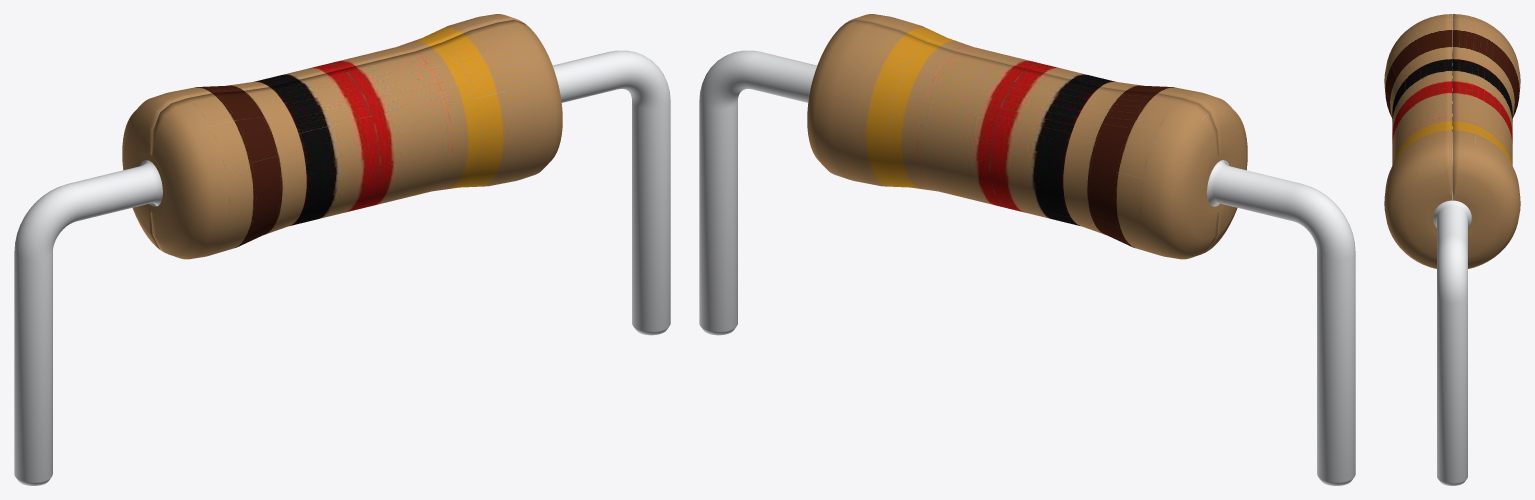
File: 03_Resistencia_Desarme_Despiece_Materiales.glb
3 views of the same model, side by side, from view 1: azimuth 30°, elevation 25°; view 2: azimuth 150°, elevation 25°; view 3: azimuth 270°, elevation 25° (orthographic). The views are drawn at different scales.
Parts seen in each view (by area): view 1: 06_Laca_Epoxi_Frontal_Bandas, 04A_Terminal_Izq_Cobre_Estanado, 04B_Terminal_Der_Cobre_Estanado, 05_Laca_Epoxi_Posterior; view 2: 05_Laca_Epoxi_Posterior, 04A_Terminal_Izq_Cobre_Estanado, 04B_Terminal_Der_Cobre_Estanado, 06_Laca_Epoxi_Frontal_Bandas; view 3: 05_Laca_Epoxi_Posterior, 06_Laca_Epoxi_Frontal_Bandas, 04B_Terminal_Der_Cobre_Estanado.
Boxes of the visible parts, x1,y1,x2,y2 form: 06_Laca_Epoxi_Frontal_Bandas: (151, 20, 562, 259); 04A_Terminal_Izq_Cobre_Estanado: (14, 160, 162, 485); 04B_Terminal_Der_Cobre_Estanado: (553, 50, 670, 335); 05_Laca_Epoxi_Posterior: (122, 14, 523, 249); 05_Laca_Epoxi_Posterior: (807, 20, 1218, 259); 04A_Terminal_Izq_Cobre_Estanado: (1207, 160, 1355, 485); 04B_Terminal_Der_Cobre_Estanado: (699, 50, 816, 335); 06_Laca_Epoxi_Frontal_Bandas: (846, 14, 1247, 249); 05_Laca_Epoxi_Posterior: (1452, 14, 1520, 268); 06_Laca_Epoxi_Frontal_Bandas: (1384, 14, 1452, 268); 04B_Terminal_Der_Cobre_Estanado: (1433, 190, 1471, 485).
Size of what is drawn, in the model's own units: 10.71 by 5.4 by 2.4.
10 materials, 8 textured.
